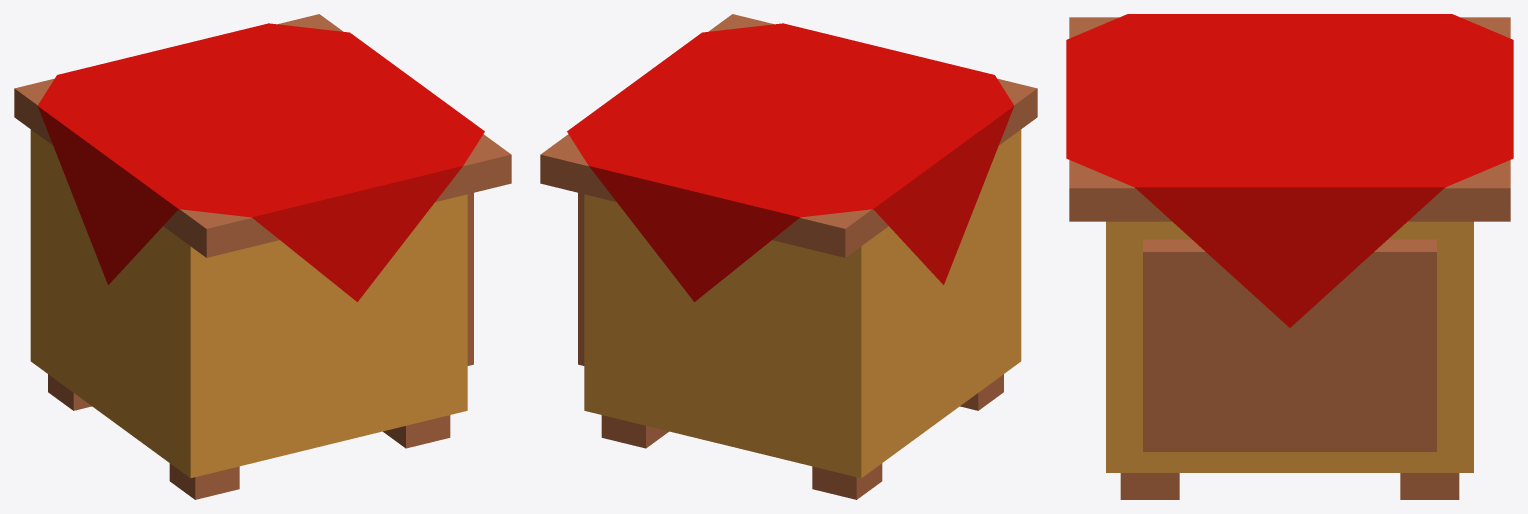
Rendered from nightstand_cloth.fbx.
3 views of the same model, side by side, from view 1: azimuth 30°, elevation 25°; view 2: azimuth 150°, elevation 25°; view 3: azimuth 270°, elevation 25° (orthographic). The views are drawn at different scales.
Parts seen in each view (by area): view 1: Cube.016; view 2: Cube.016; view 3: Cube.016.
Part boxes in pixels (x1=…): Cube.016: x1=14, y1=14, x2=511, y2=499; Cube.016: x1=540, y1=14, x2=1037, y2=499; Cube.016: x1=1066, y1=14, x2=1513, y2=499.
Bounding box in the file's own units: 55.8 × 50.31 × 60.79.
